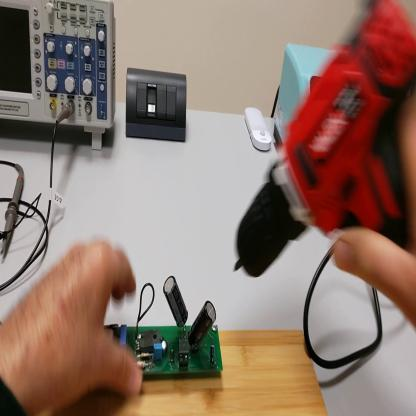electric screwdriver: (233, 2, 416, 280)
hand: (8, 241, 146, 415), (333, 105, 416, 320)
high voltage board: (105, 277, 224, 379)
oscilloscope: (1, 1, 118, 152)
oscilloscope probe tip: (3, 165, 27, 263)
working area: (34, 330, 329, 416)
